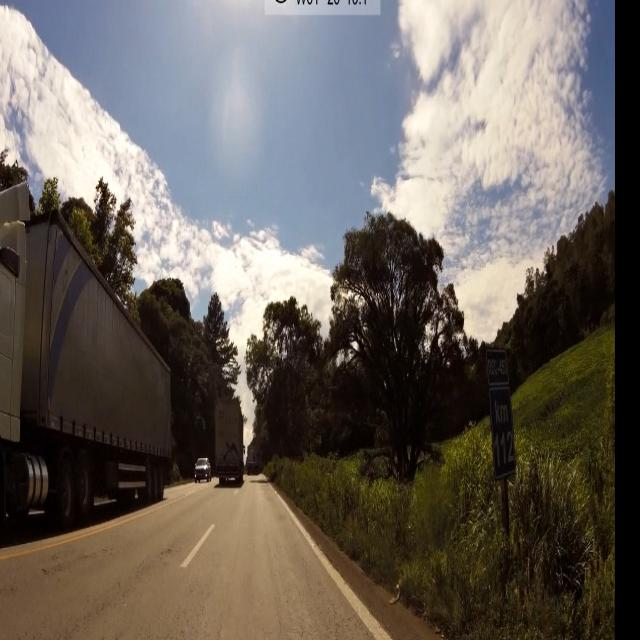RQ: (483, 351, 520, 485)
